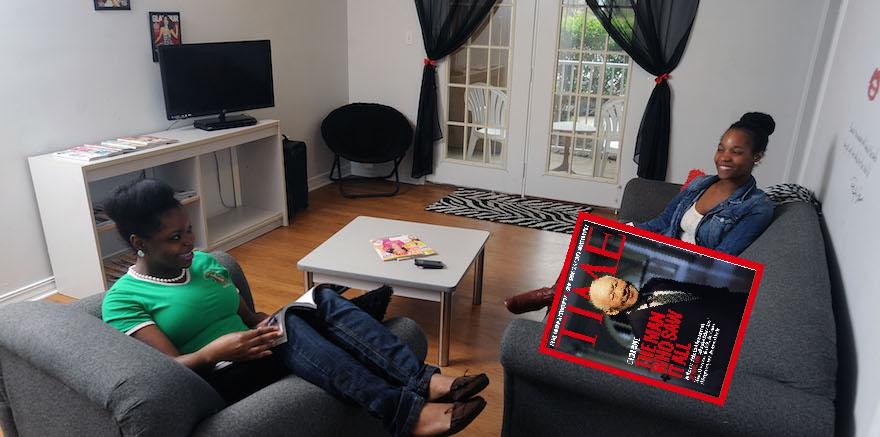times: (535, 208, 767, 410)
